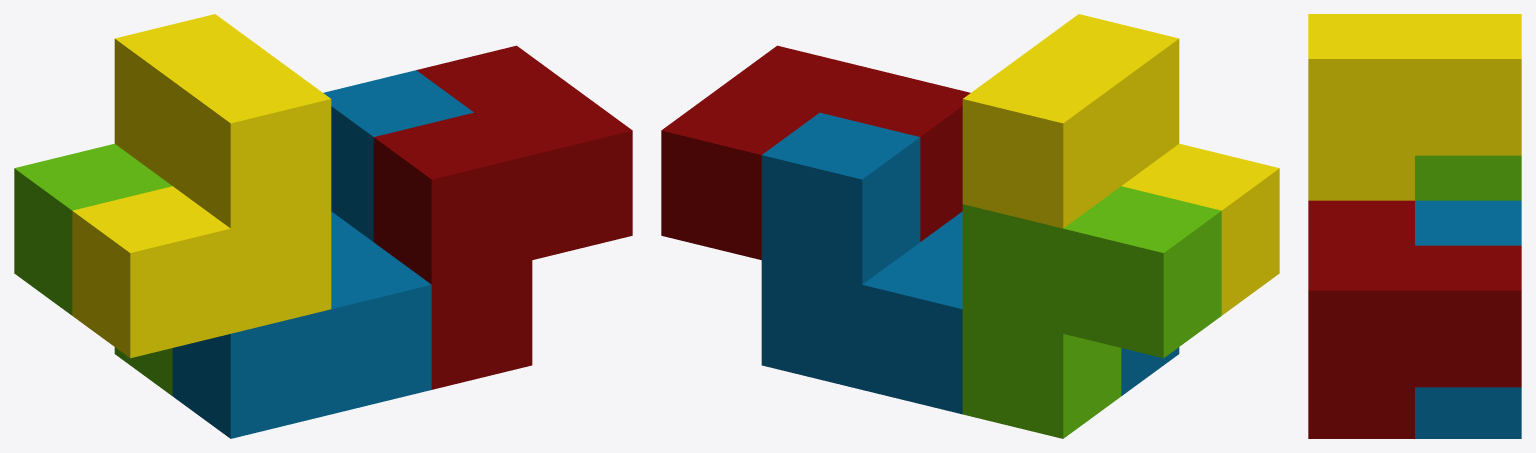
3 views of the same model, side by side, from view 1: azimuth 30°, elevation 25°; view 2: azimuth 150°, elevation 25°; view 3: azimuth 270°, elevation 25° (orthographic). The views are drawn at different scales.
Parts seen in each view (by area): view 1: mergedBlocks(Clone); view 2: mergedBlocks(Clone); view 3: mergedBlocks(Clone).
Boxes of the visible parts, left/top/right/bottom form: mergedBlocks(Clone): left=14, top=14, right=632, bottom=438; mergedBlocks(Clone): left=661, top=14, right=1279, bottom=438; mergedBlocks(Clone): left=1308, top=14, right=1521, bottom=438.
Bounding box in the file's own units: 5 × 3 × 2.
4 materials, 4 textured.
